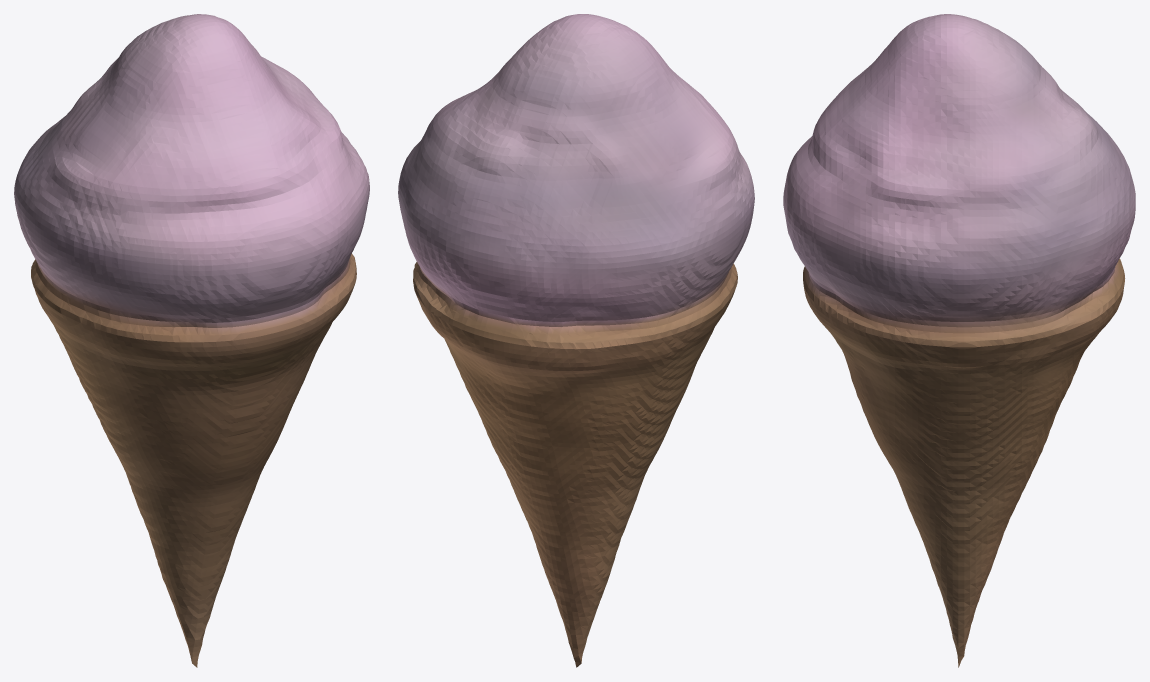
The model's file is icecream.glb.
3 views of the same model, side by side, from view 1: azimuth 30°, elevation 25°; view 2: azimuth 150°, elevation 25°; view 3: azimuth 270°, elevation 25° (orthographic).
Visible parts, largest first — view 1: tmprt8m15hq.ply; view 2: tmprt8m15hq.ply; view 3: tmprt8m15hq.ply.
Part boxes in pixels (bbox=[...]): tmprt8m15hq.ply: bbox=[14, 14, 369, 667]; tmprt8m15hq.ply: bbox=[398, 14, 754, 667]; tmprt8m15hq.ply: bbox=[783, 14, 1135, 667].
Size of the model in its own units: 0.9547 by 1.91 by 0.9458.
